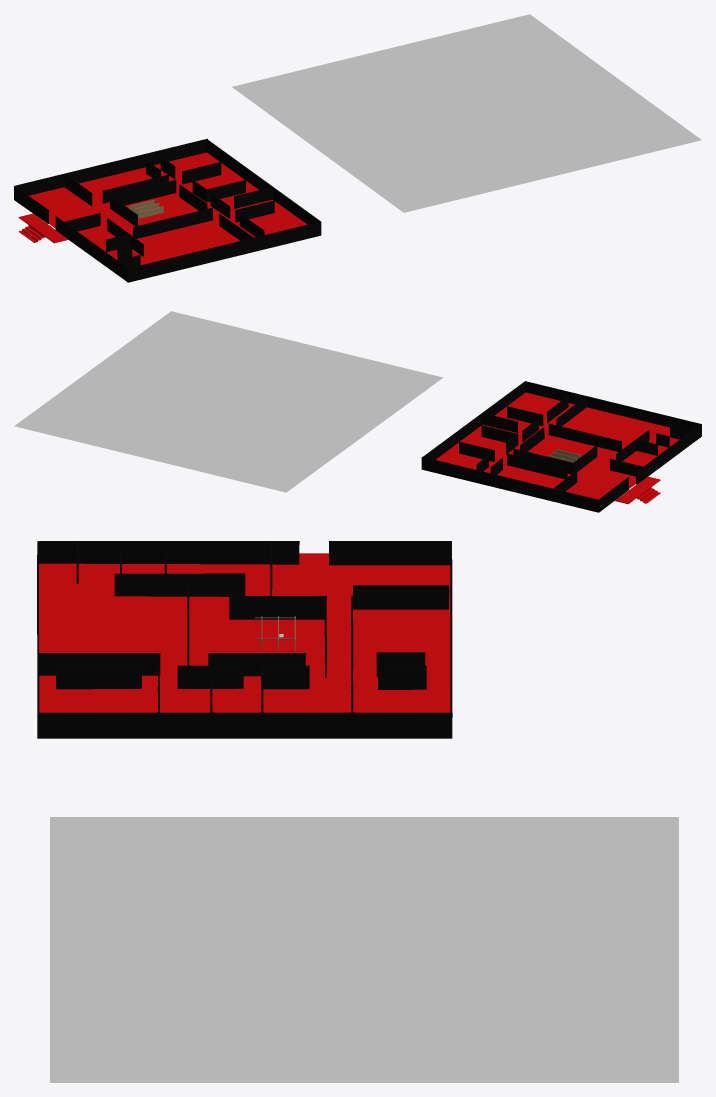
The model's file is Square Layout.fbx.
The picture shows the model from 3 angles, top to bottom: view 1: azimuth 30°, elevation 25°; view 2: azimuth 150°, elevation 25°; view 3: azimuth 270°, elevation 25°; orthographic projection. The views are drawn at different scales.
Parts seen in each view (by area): view 1: 00, Ground_3.048, Wall__3__1.107, Wall__3__1.109, Wall__3__1.108, Wall__3__1.045, Wall__3__1.128, Wall__3__1.125, Wall__3__1.115, Ground_3.041, Wall__3__1.118, Wall__3__1.106 (+4 smaller); view 2: 00, Ground_3.048, Wall__3__1.109, Wall__3__1.107, Wall__3__1.108, Wall__3__1.045, Wall__3__1.128, Wall__3__1.115, Ground_3.041, Wall__3__1.125, Wall__3__1.122, Wall__3__1.106 (+6 smaller); view 3: 00, Ground_3.048, Wall__3__1.108, Wall__3__1.045, Wall__3__1.112, Wall__3__1.106, Wall__3__1.116, Wall__3__1.127, Wall__3__1.129, Wall__3__1.130, Wall__3__1.123, Wall__3__1.126 (+2 smaller).
Boxes of the visible parts, bbox=[...] form: 00: bbox=[232, 14, 701, 212]; Ground_3.048: bbox=[29, 152, 306, 265]; Wall__3__1.107: bbox=[127, 221, 321, 282]; Wall__3__1.109: bbox=[14, 138, 207, 195]; Wall__3__1.108: bbox=[206, 139, 320, 224]; Wall__3__1.045: bbox=[55, 216, 128, 281]; Wall__3__1.128: bbox=[133, 207, 212, 238]; Wall__3__1.125: bbox=[110, 180, 176, 208]; Wall__3__1.115: bbox=[102, 174, 168, 203]; Ground_3.041: bbox=[18, 213, 67, 243]; Wall__3__1.118: bbox=[182, 162, 221, 184]; Wall__3__1.106: bbox=[14, 186, 48, 223]; 00: bbox=[14, 311, 442, 492]; Ground_3.048: bbox=[436, 392, 679, 499]; Wall__3__1.109: bbox=[421, 456, 598, 512]; Wall__3__1.107: bbox=[525, 381, 701, 436]; Wall__3__1.108: bbox=[422, 381, 525, 464]; Wall__3__1.045: bbox=[636, 424, 701, 484]; Wall__3__1.128: bbox=[548, 423, 621, 451]; Wall__3__1.115: bbox=[507, 453, 567, 479]; Ground_3.041: bbox=[615, 476, 660, 504]; Wall__3__1.125: bbox=[513, 448, 574, 474]; Wall__3__1.122: bbox=[482, 413, 517, 432]; Wall__3__1.106: bbox=[598, 477, 628, 512]; 00: bbox=[50, 817, 678, 1082]; Ground_3.048: bbox=[39, 563, 450, 712]; Wall__3__1.108: bbox=[37, 712, 452, 738]; Wall__3__1.045: bbox=[38, 541, 299, 564]; Wall__3__1.112: bbox=[114, 573, 245, 596]; Wall__3__1.106: bbox=[329, 541, 451, 565]; Wall__3__1.116: bbox=[353, 585, 449, 609]; Wall__3__1.127: bbox=[229, 596, 326, 619]; Wall__3__1.129: bbox=[37, 653, 160, 675]; Wall__3__1.130: bbox=[56, 666, 141, 689]; Wall__3__1.123: bbox=[177, 665, 243, 688]; Wall__3__1.126: bbox=[208, 653, 305, 676].
Bounding box in the file's own units: 690052 × 21038 × 348779.
